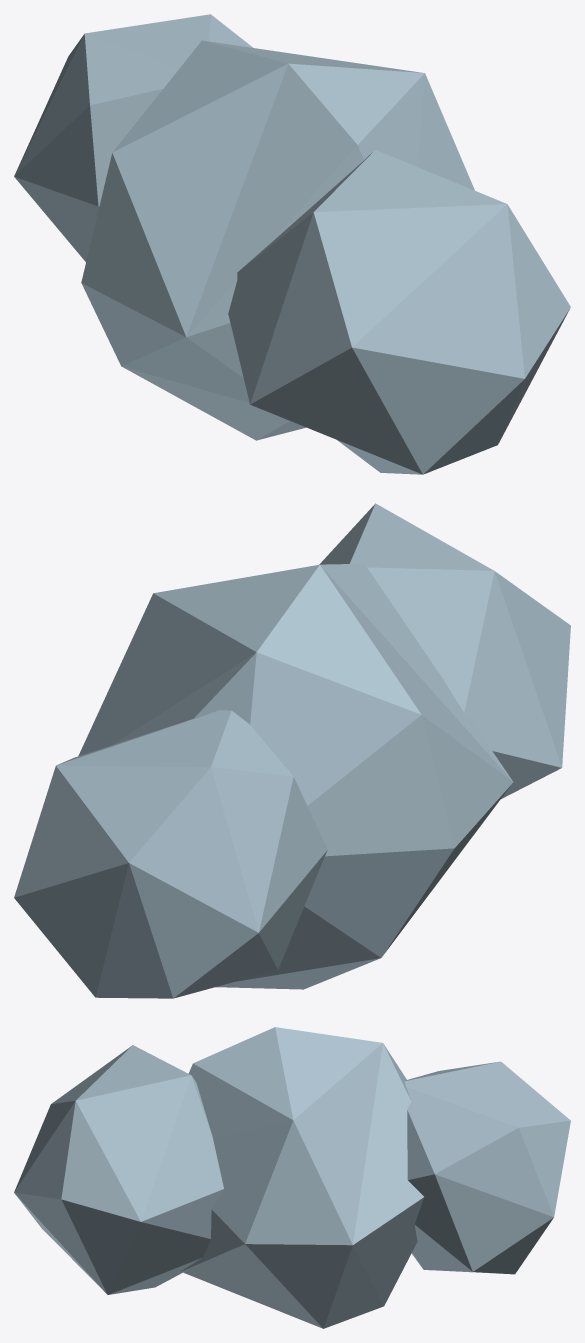
The model's file is cloud.fbx.
3 renders of one model, top to bottom at view 1: azimuth 30°, elevation 25°; view 2: azimuth 150°, elevation 25°; view 3: azimuth 270°, elevation 25°, orthographic. The views are drawn at different scales.
Visible parts, largest first — view 1: Cloud; view 2: Cloud; view 3: Cloud.
Boxes of the visible parts, x1,y1,x2,y2 form: Cloud: (14, 14, 570, 474); Cloud: (14, 503, 570, 998); Cloud: (14, 1027, 570, 1328).
Bounding box in the file's own units: 181 × 190 × 335.
